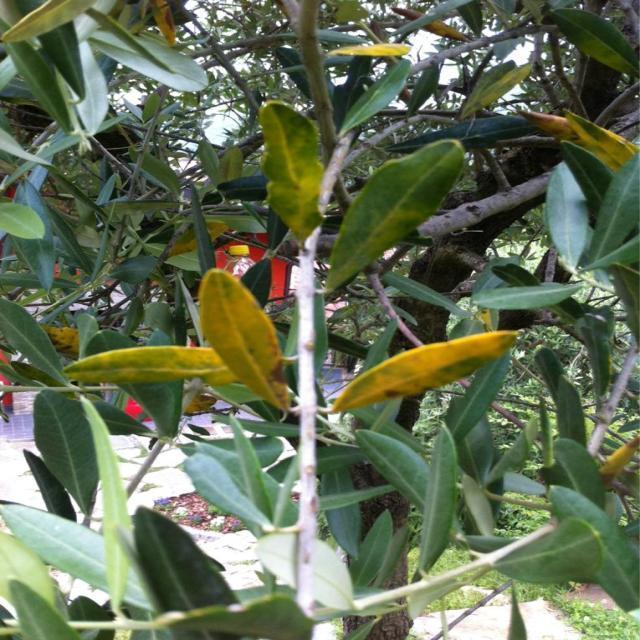OlivePeacockSpot: (326, 142, 464, 294), (331, 332, 516, 412), (199, 268, 290, 411), (259, 100, 323, 248), (518, 111, 638, 170), (66, 346, 234, 384)
